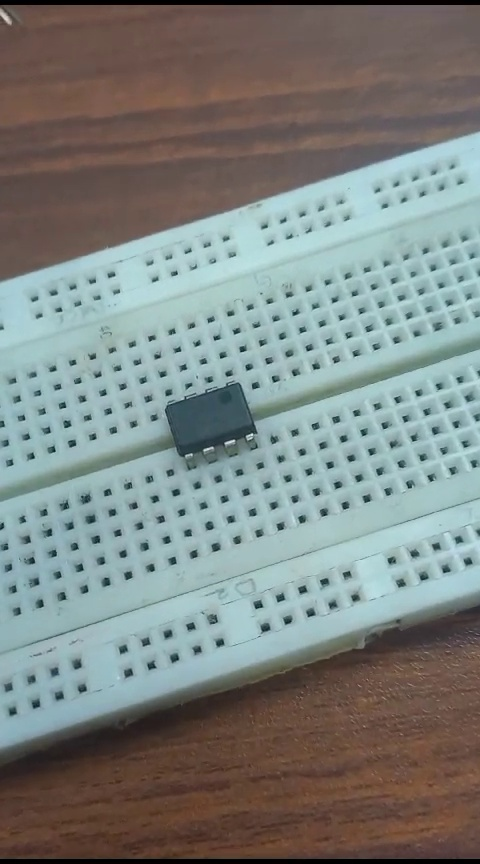IC: (140, 376, 277, 457)
